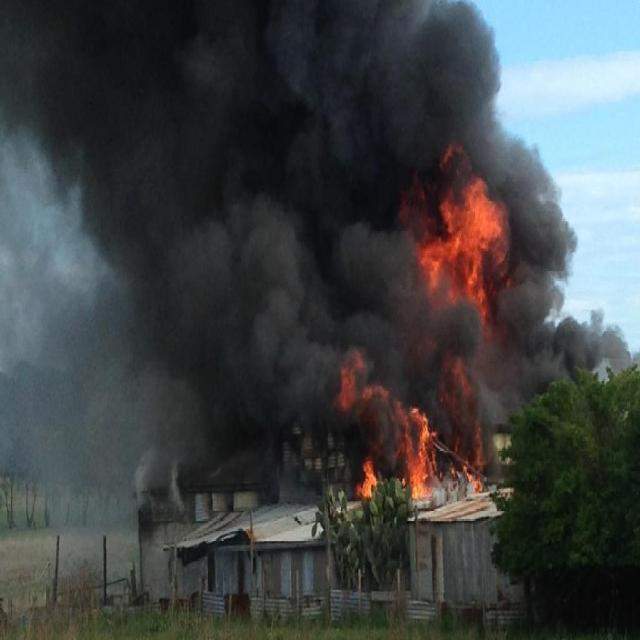Fire: (411, 138, 521, 333), (340, 369, 437, 497), (458, 414, 488, 490), (360, 453, 378, 498)
